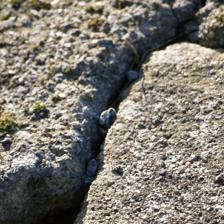Crack: (44, 10, 179, 178)
